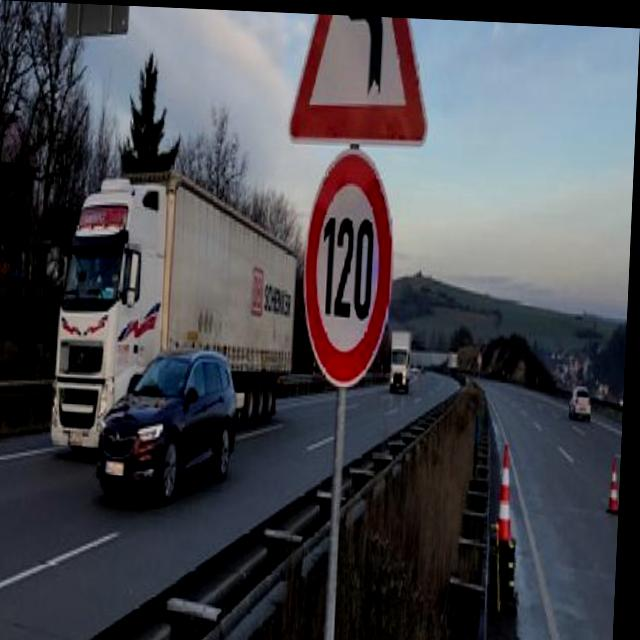limit120: (293, 139, 411, 392)
